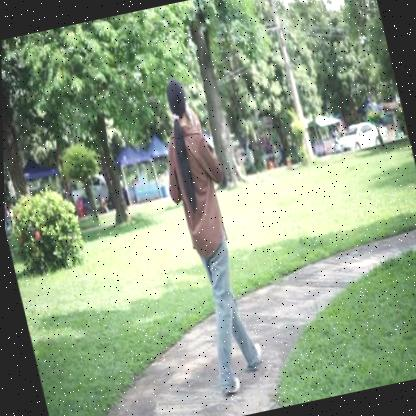person: (127, 62, 289, 410)
